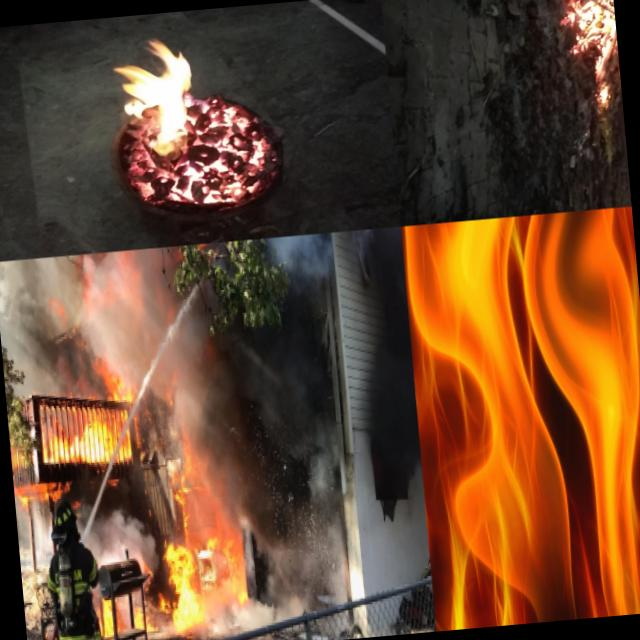fire: (400, 206, 640, 631), (100, 26, 210, 213), (542, 0, 629, 190), (201, 90, 287, 210), (39, 398, 143, 474), (203, 515, 251, 601), (166, 534, 207, 628), (167, 443, 200, 529), (98, 356, 138, 411), (12, 468, 59, 508), (130, 588, 154, 638), (99, 592, 120, 640)
smoke: (0, 249, 166, 383), (288, 414, 354, 616), (206, 584, 304, 638), (96, 500, 162, 570)
